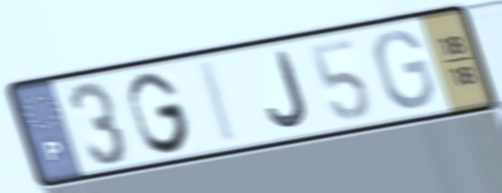3: (66, 78, 131, 170)
5: (305, 35, 374, 123)
G: (124, 69, 195, 157), (371, 27, 439, 112)
I: (198, 57, 242, 147)
J: (264, 47, 313, 131)
